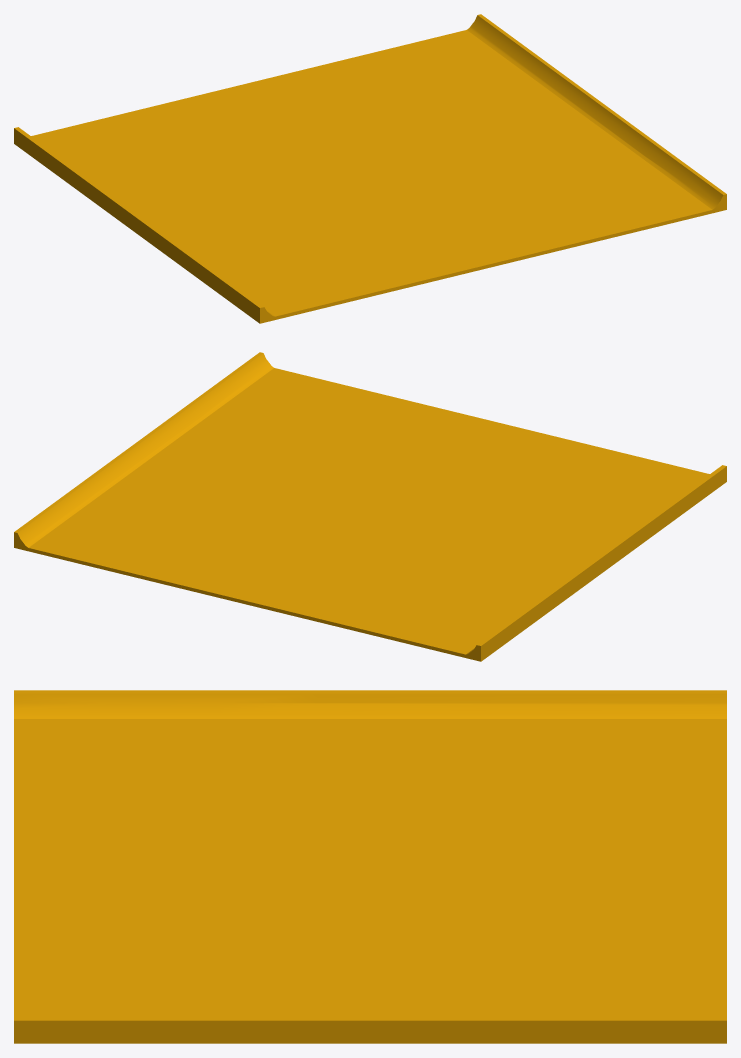
The model's file is 14mTrack_Blockout_ShortStraight.fbx.
3 renders of one model, top to bottom at view 1: azimuth 30°, elevation 25°; view 2: azimuth 150°, elevation 25°; view 3: azimuth 270°, elevation 25°, orthographic. The views are drawn at different scales.
Parts seen in each view (by area): view 1: polySurface87; view 2: polySurface87; view 3: polySurface87.
Boxes of the visible parts, bbox=[...] form: polySurface87: bbox=[14, 14, 726, 323]; polySurface87: bbox=[14, 352, 726, 661]; polySurface87: bbox=[14, 690, 726, 1043].
Size of the model in its own units: 1400 by 45 by 1277.
